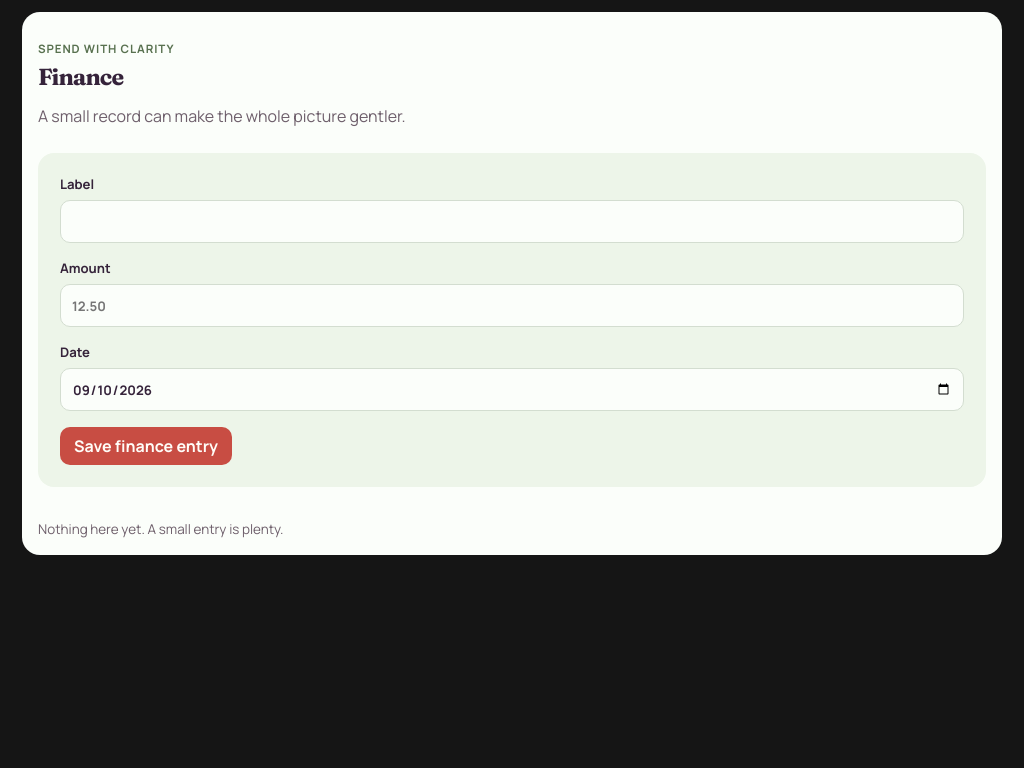
Test: supporting module forms › keeps an invalid finance form filled in for correction
Type "Lunch" into the field labelled "Label". click: {"x": 512, "y": 222}
box: [60,200,964,243]
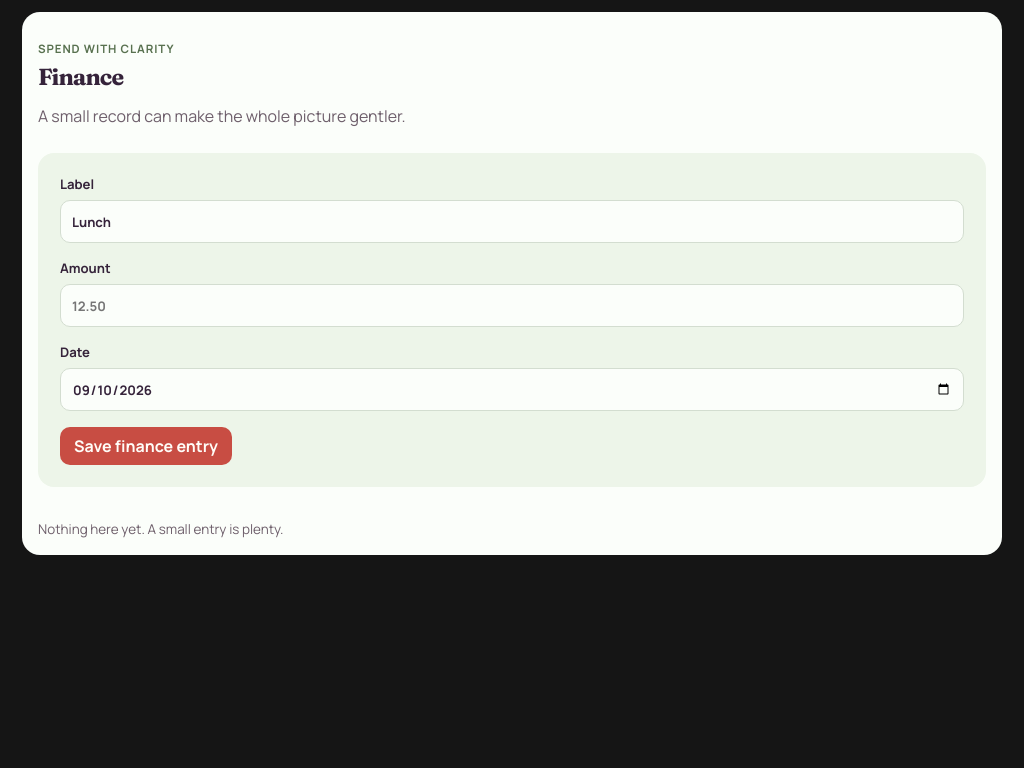
Type "twelve" into the field labelled "Amount". click: {"x": 512, "y": 306}
box: [60,284,964,327]
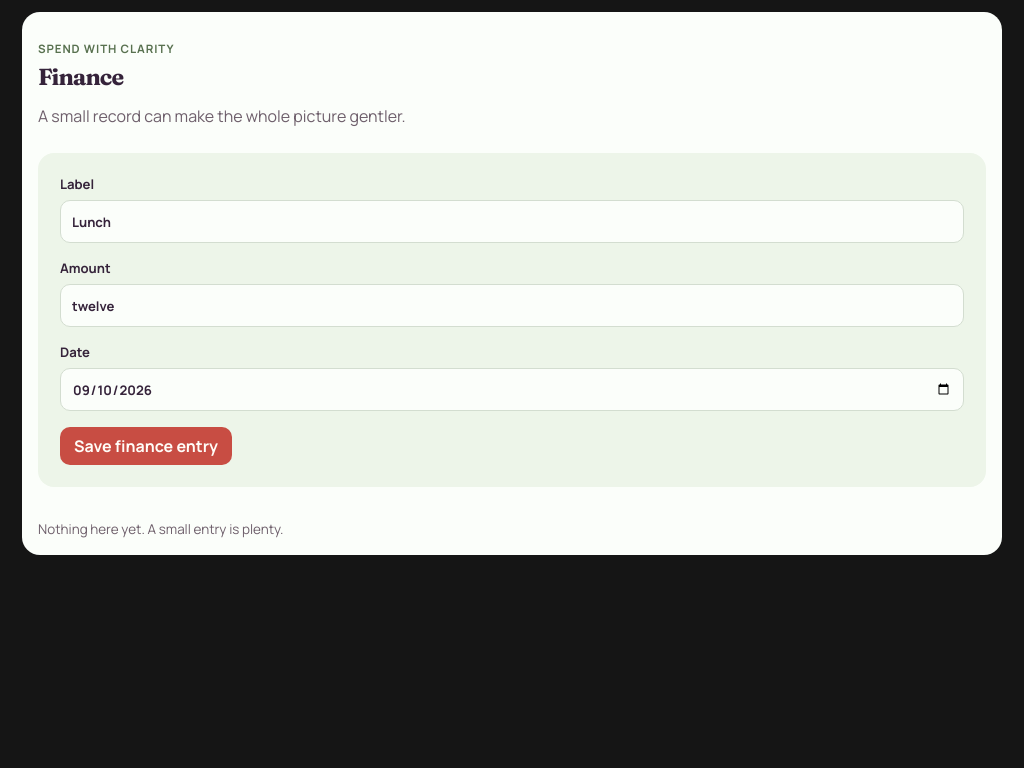
Click the button "Save finance entry". click: {"x": 146, "y": 446}
box: [60,427,232,465]
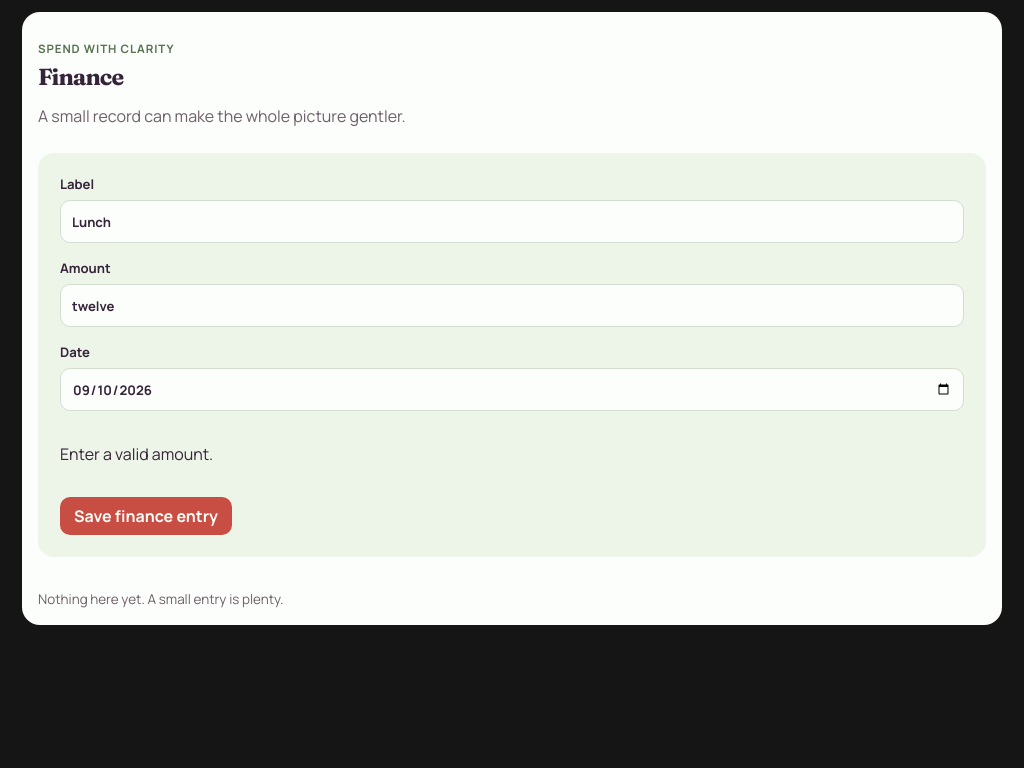
Now the message reads "Enter a valid amount.", box [60,443,213,465]
